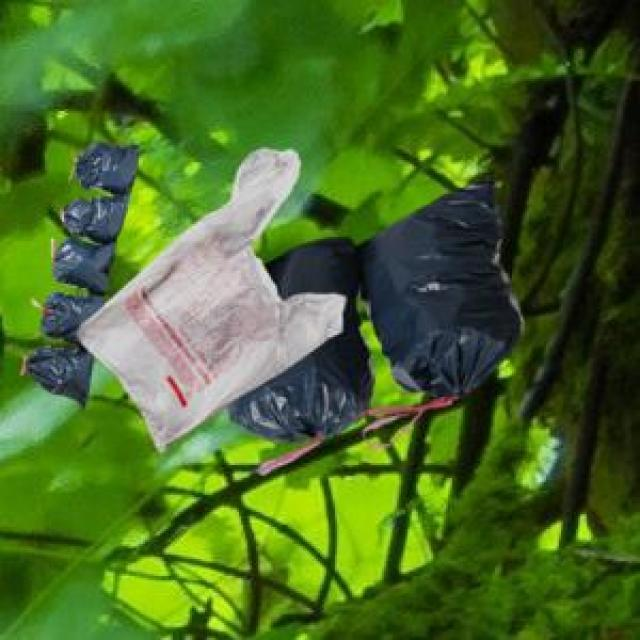miscellaneous trash: (224, 175, 518, 469), (21, 139, 134, 408)
